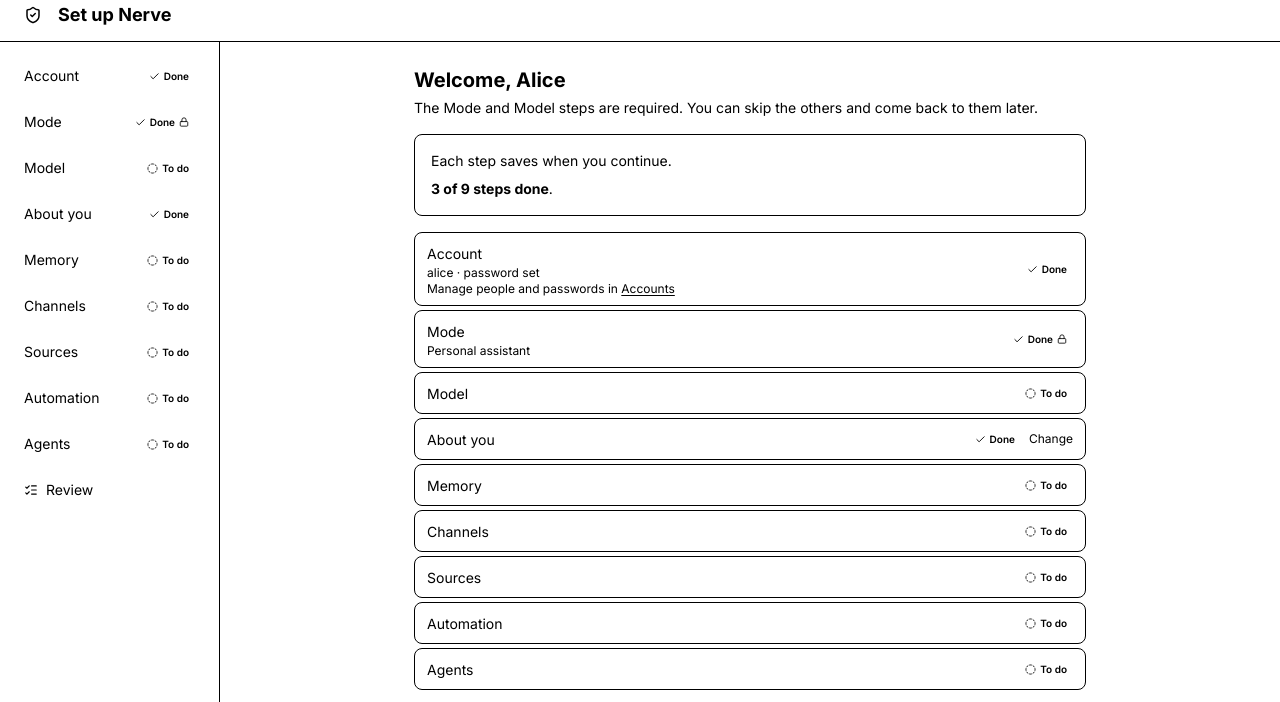
Test: editing a step from the Overview or the Review › "Change" on the Overview opens the step to edit it: the primary reads Save and returns to the Overview
Click the link "Change": point(1051, 439) [1029, 431, 1073, 447]
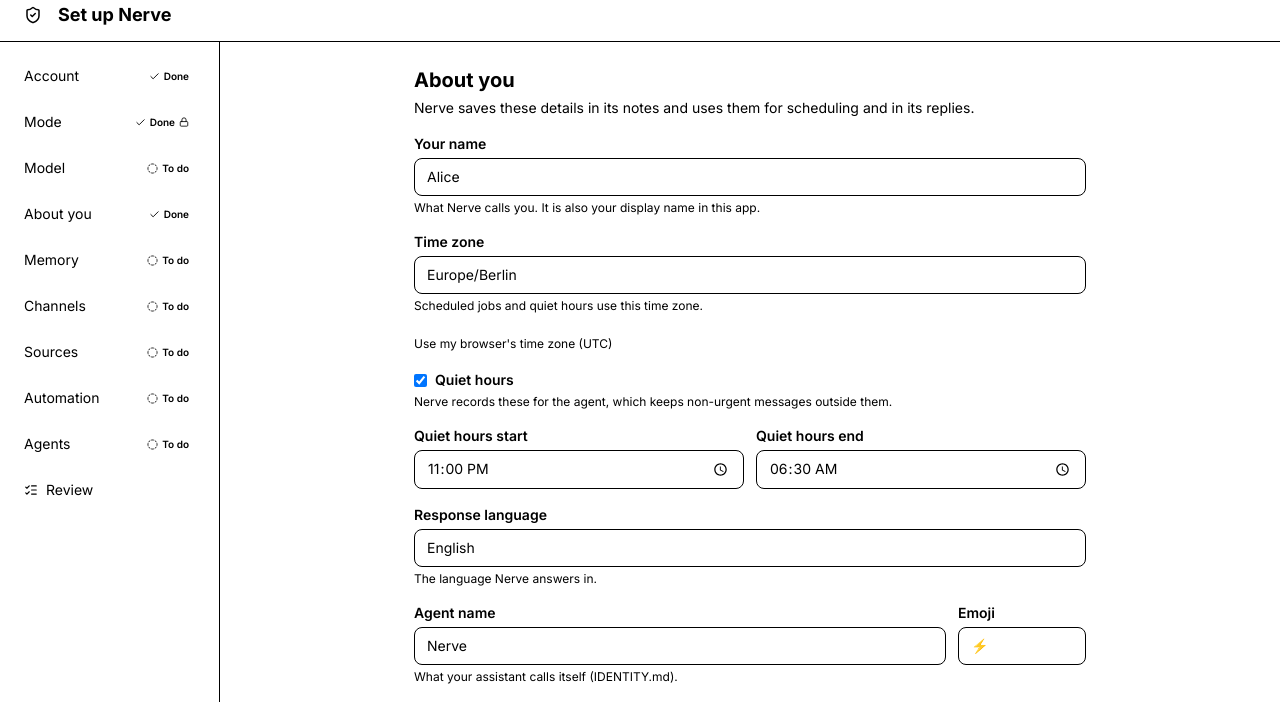
Replace the text in the field labelled "Response language" with "Deutsch": point(750, 548) [414, 529, 1086, 567]
(page scrolled)
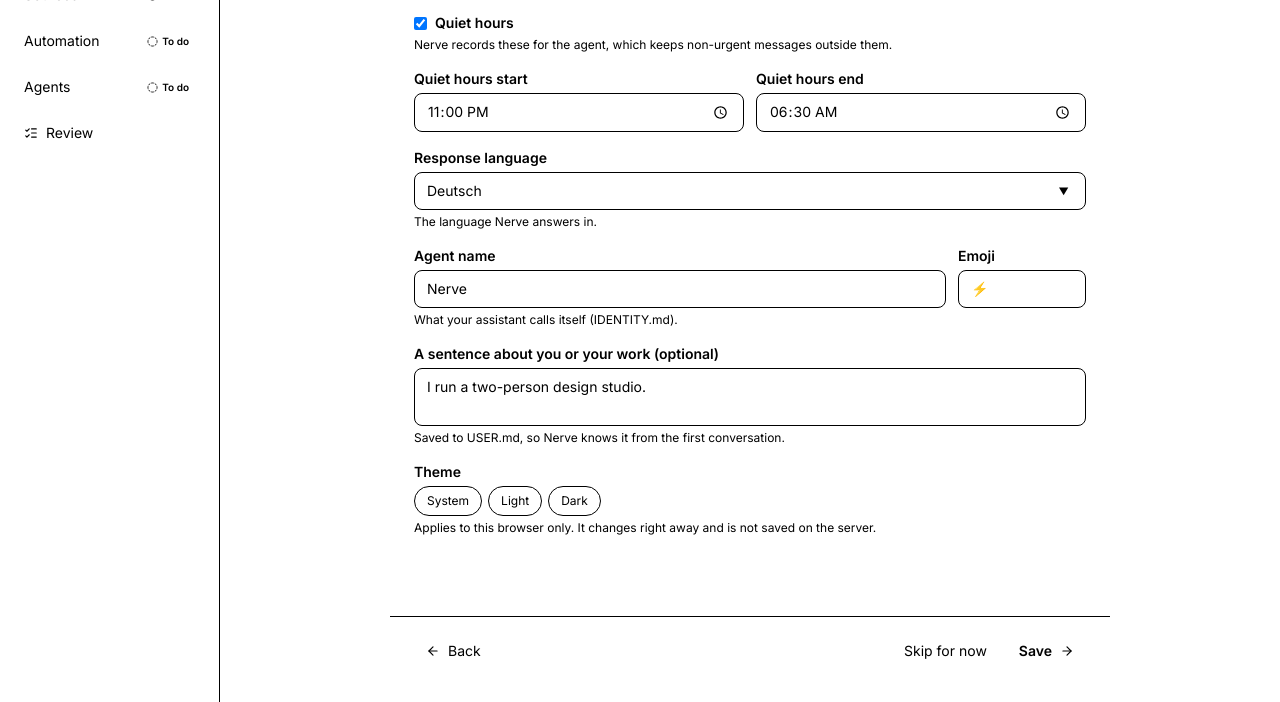
Click the button "Save": point(1046, 651) [1007, 629, 1086, 673]
(page scrolled)
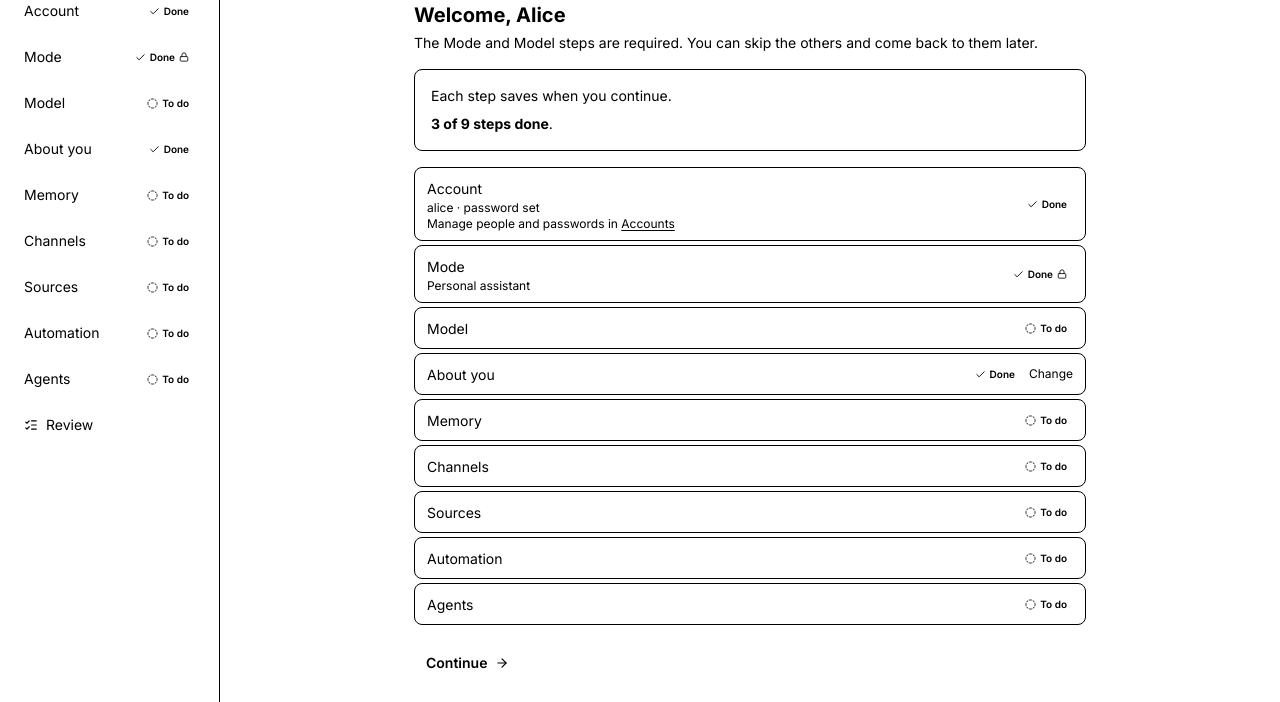
expect the heading "Welcome, Alice" is shown: met, box [414, 3, 566, 27]
